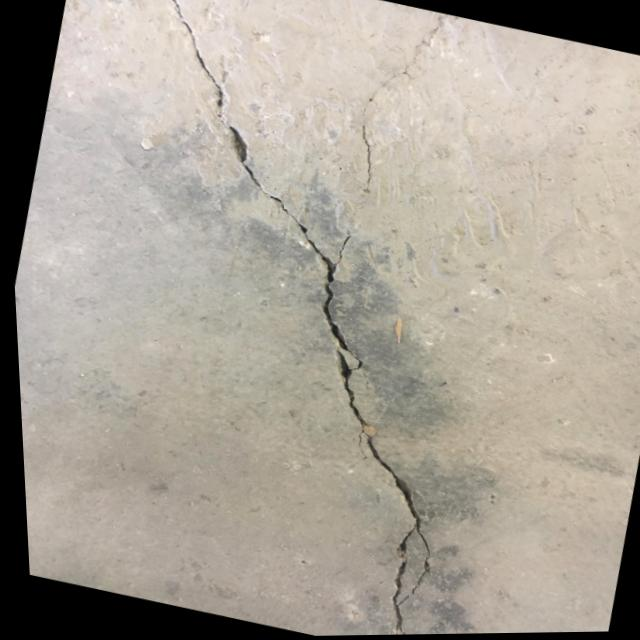Crack: (194, 251, 546, 638), (99, 0, 454, 283)
